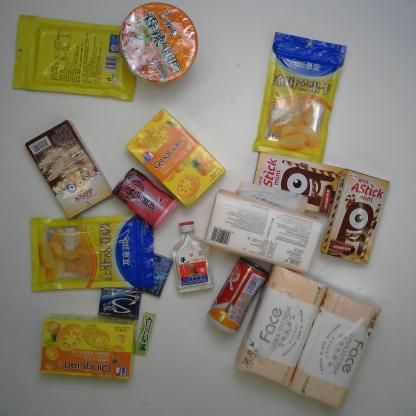Alcohol: (172, 218, 215, 296)
Canned Food: (204, 254, 272, 336), (111, 166, 179, 231)
Dessert: (126, 108, 226, 210), (24, 118, 114, 220), (320, 168, 391, 265), (38, 312, 138, 380), (252, 149, 346, 215)
Dried Fruit: (251, 28, 348, 166), (10, 12, 139, 102), (24, 209, 156, 292)
Gum: (133, 250, 175, 298), (98, 285, 144, 320), (135, 309, 157, 358)
Instant Noodles: (117, 0, 200, 87)
Tissue: (287, 283, 382, 412), (234, 264, 328, 389), (203, 188, 324, 273)
